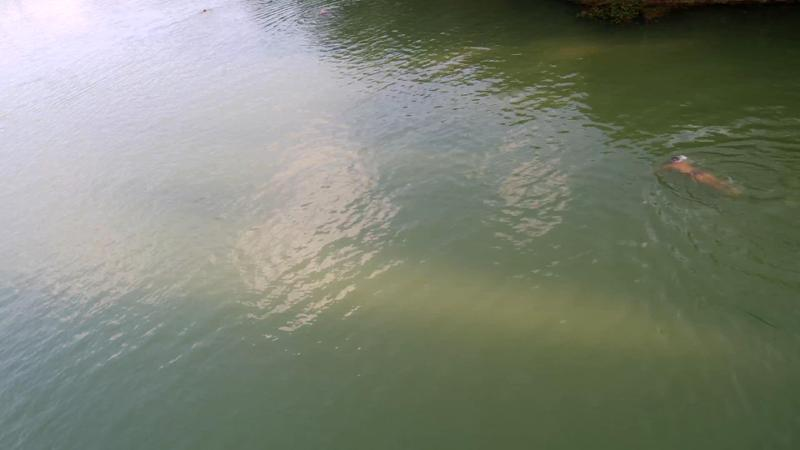swimmers: (657, 155, 739, 197)
